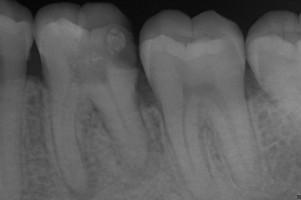Furcation Involvement: (121, 137, 163, 184), (68, 144, 97, 200)
